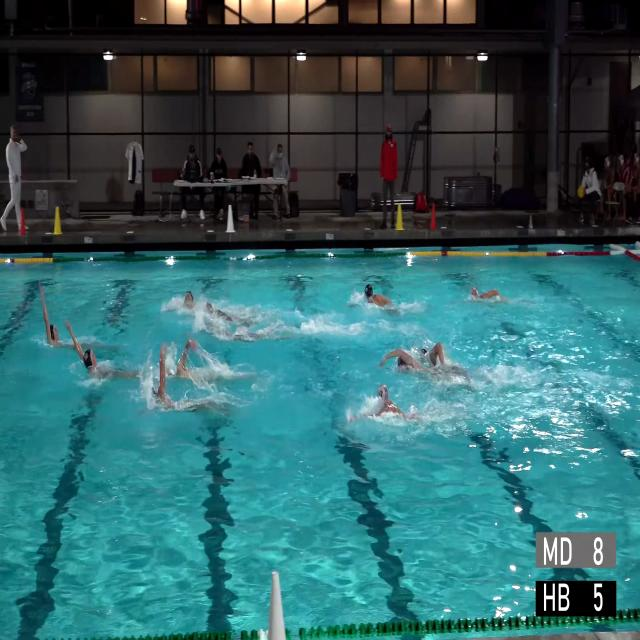ball: (578, 184, 584, 198)
